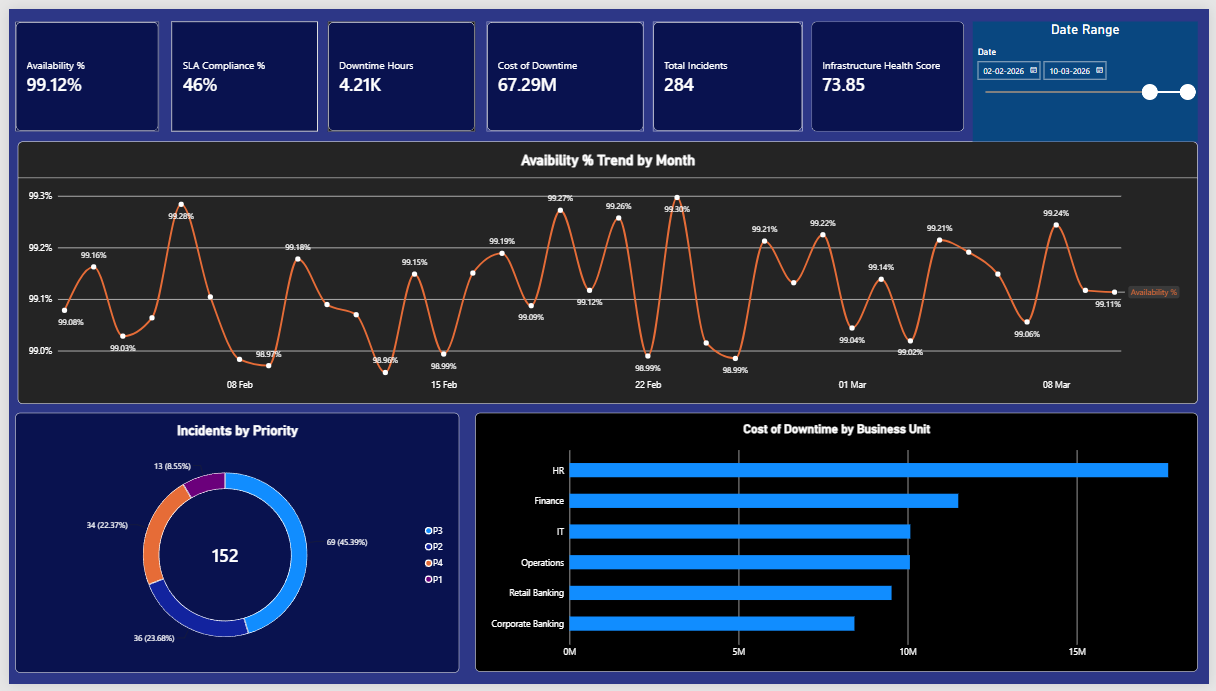

This screenshot's page, from the dashboard's own definition file:
{"tool":"powerbi","page":{"name":"Executive Overview","canvas":[1920,1080],"ordinal":0},"visuals":[{"type":"cardVisual","fields":{"Data":["it_infrastructure_health performance_metrics.Availability %"]},"box":[10,20,230,176],"z":0},{"type":"cardVisual","fields":{"Data":["it_infrastructure_health business_impact.Downtime Hours"]},"box":[510,20,236,176],"z":1000},{"type":"cardVisual","fields":{"Data":["it_infrastructure_health sla_definitions.SLA Compliance %"]},"box":[260,20,234,176],"z":2000},{"type":"cardVisual","fields":{"Data":["it_infrastructure_health business_impact.Cost of Downtime"]},"box":[764,20,252,176],"z":3000},{"type":"cardVisual","fields":{"Data":["it_infrastructure_health incidents.Total Incidents"]},"box":[1030,20,240,176],"z":4000},{"type":"lineChart","title":"Avaibility % Trend by Month","fields":{"Y":["it_infrastructure_health performance_metrics.Availability %"],"Category":["it_infrastructure_health performance_metrics.MetricDate.Variation.Date Hierarchy.Month"]},"box":[14,212,1888,420],"z":5000},{"type":"donutChart","title":"Incidents by Priority","fields":{"Category":["it_infrastructure_health incidents.Priority"],"Y":["CountNonNull(it_infrastructure_health incidents.IncidentID)"]},"box":[10,646,710,416],"z":6000},{"type":"cardVisual","fields":{"Data":["it_infrastructure_health infrastructure_assets.Infrastructure Health Score"]},"box":[1284,20,244,176],"z":7000},{"type":"clusteredBarChart","title":"Cost of Downtime by Business Unit","fields":{"Category":["it_infrastructure_health it_services.BusinessUnit"],"Y":["Sum(it_infrastructure_health business_impact.EstimatedDowntimeCost)"]},"box":[746,646,1156,414],"z":8000},{"type":"slicer","title":"Date Range","fields":{"Values":["Calendar.Date"]},"box":[1542,20,360,192],"z":10000}]}

Visuals, with their boxes in screenshot pixels (x1, y1, x2, y2), scaled from the page's 1920x1080 canvas onto the 1216x691 screenshot:
cardVisual - it_infrastructure_health performance_metrics.Availability %: (6,13,152,125)
cardVisual - it_infrastructure_health business_impact.Downtime Hours: (323,13,472,125)
cardVisual - it_infrastructure_health sla_definitions.SLA Compliance %: (165,13,313,125)
cardVisual - it_infrastructure_health business_impact.Cost of Downtime: (484,13,643,125)
cardVisual - it_infrastructure_health incidents.Total Incidents: (652,13,804,125)
"Avaibility % Trend by Month" lineChart: (9,136,1205,404)
"Incidents by Priority" donutChart: (6,413,456,679)
cardVisual - it_infrastructure_health infrastructure_assets.Infrastructure Health Score: (813,13,968,125)
"Cost of Downtime by Business Unit" clusteredBarChart: (472,413,1205,678)
"Date Range" slicer: (977,13,1205,136)
